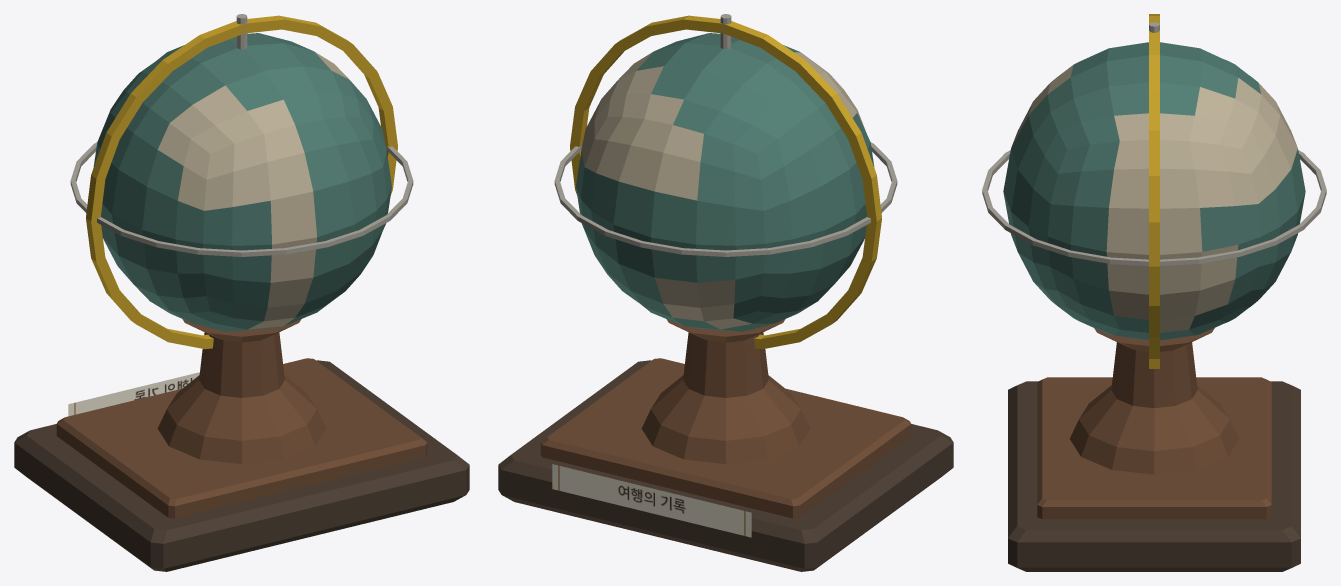
The model's file is N06_Grand_Globe_Display.fbx.
3 renders of one model, left to right at view 1: azimuth 30°, elevation 25°; view 2: azimuth 150°, elevation 25°; view 3: azimuth 270°, elevation 25°, orthographic.
Visible parts, largest first — view 1: Structure, Globe, Meridian; view 2: Globe, Structure, Meridian; view 3: Globe, Structure, Meridian.
Part boxes in pixels (left/top/right/bottom): Structure: left=14, top=14, right=469, bottom=571; Globe: left=93, top=33, right=391, bottom=331; Meridian: left=70, top=15, right=413, bottom=349; Globe: left=576, top=33, right=874, bottom=331; Structure: left=498, top=14, right=953, bottom=571; Meridian: left=554, top=15, right=897, bottom=349; Globe: left=1003, top=42, right=1305, bottom=340; Structure: left=1008, top=22, right=1300, bottom=571; Meridian: left=982, top=14, right=1326, bottom=368.
Size of the model in its own units: 2.4 by 3.39 by 2.23.
Materials: 8 (1 with a texture image).
